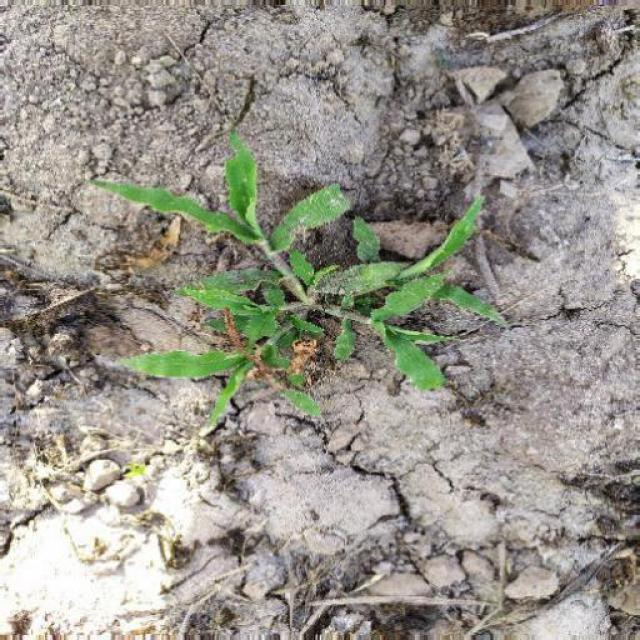weed: (88, 148, 518, 460)
